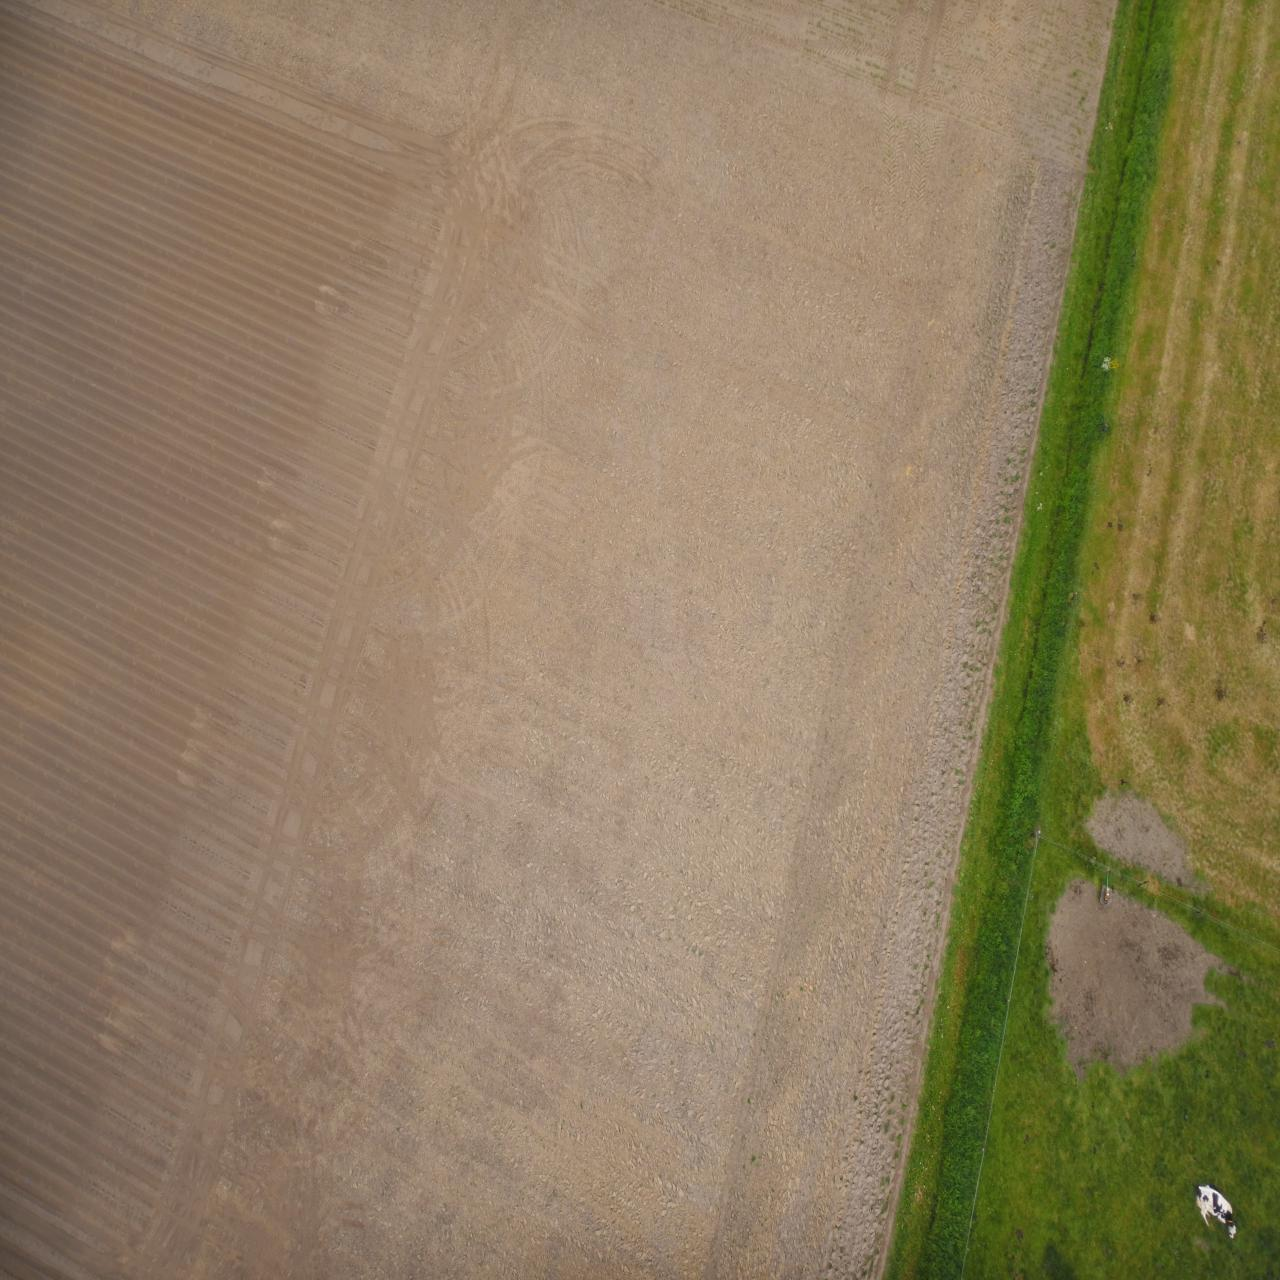cow: (42, 41, 86, 95)
